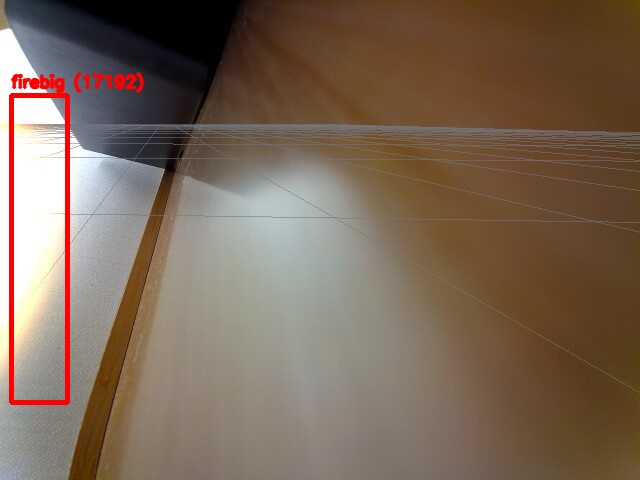firebig: (11, 95, 67, 402)
